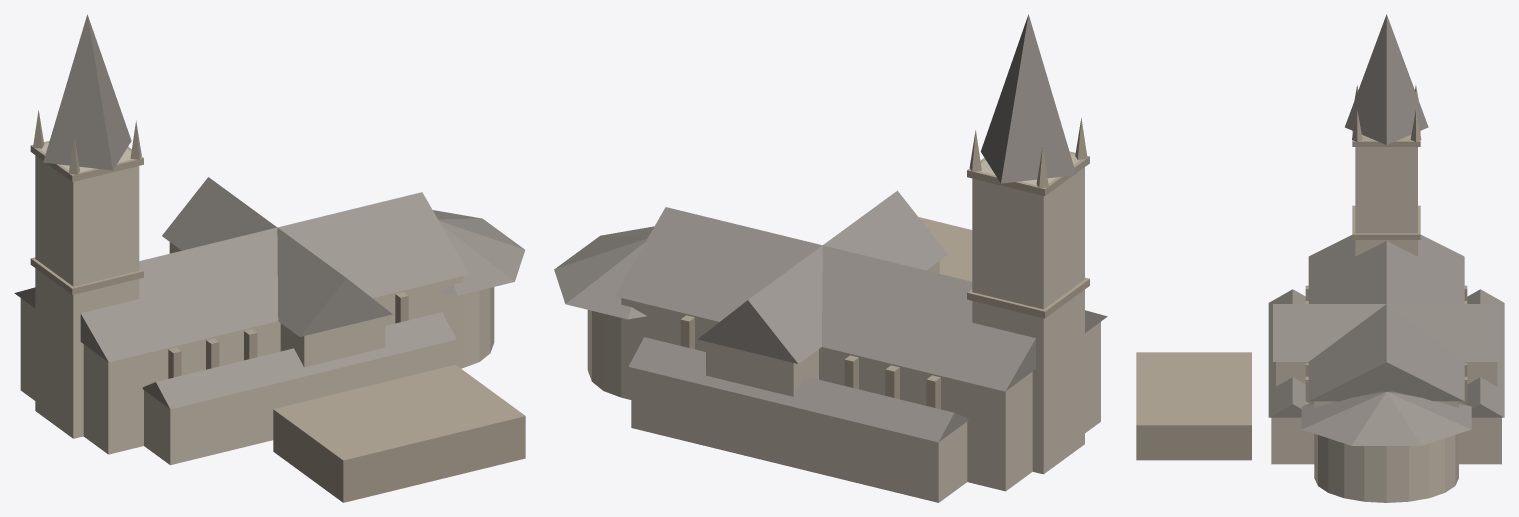
File: catedral.glb
The picture shows the model from 3 angles, left to right: view 1: azimuth 30°, elevation 25°; view 2: azimuth 150°, elevation 25°; view 3: azimuth 270°, elevation 25°; orthographic projection. The views are drawn at different scales.
Size of the model in its own units: 90.95 by 76 by 76.5.
